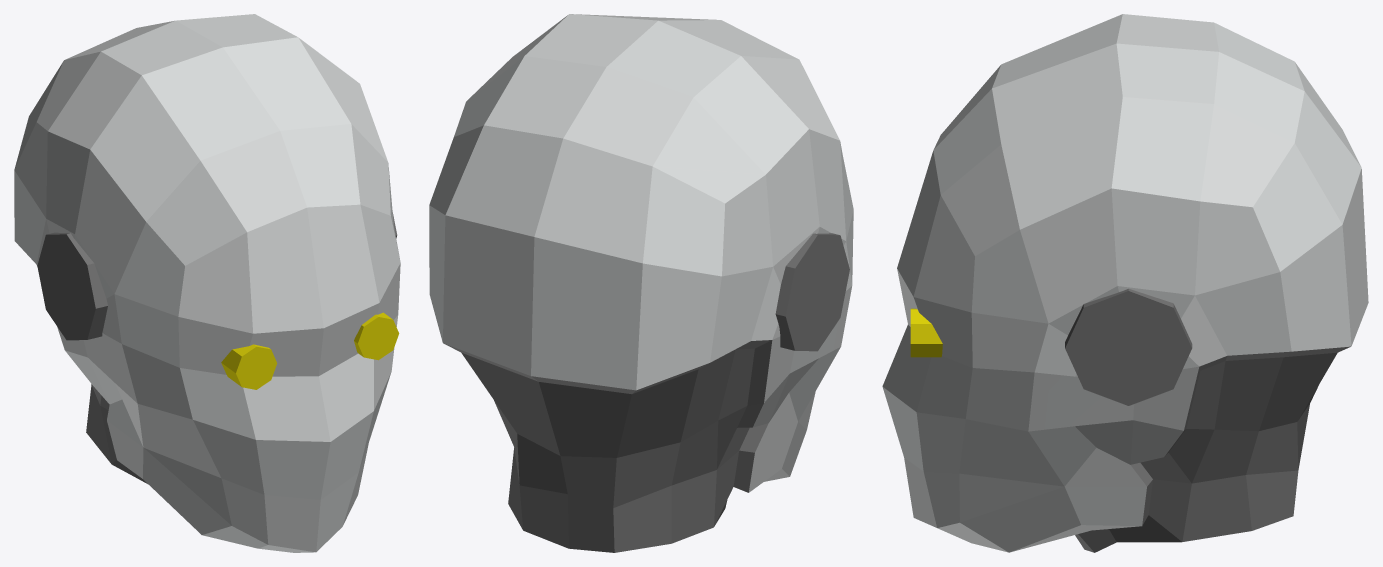
Rendered from player_face.fbx.
3 renders of one model, left to right at view 1: azimuth 30°, elevation 25°; view 2: azimuth 150°, elevation 25°; view 3: azimuth 270°, elevation 25°, orthographic. The views are drawn at different scales.
Visible parts, largest first — view 1: Base1:Male:Base1:Male:polySurface80; view 2: Base1:Male:Base1:Male:polySurface80; view 3: Base1:Male:Base1:Male:polySurface80.
Part boxes in pixels (x1,y1,x2,y2): Base1:Male:Base1:Male:polySurface80: [14, 14, 400, 552]; Base1:Male:Base1:Male:polySurface80: [429, 14, 853, 552]; Base1:Male:Base1:Male:polySurface80: [882, 14, 1368, 552].
Size of the model in its own units: 99.73 by 147 by 128.
